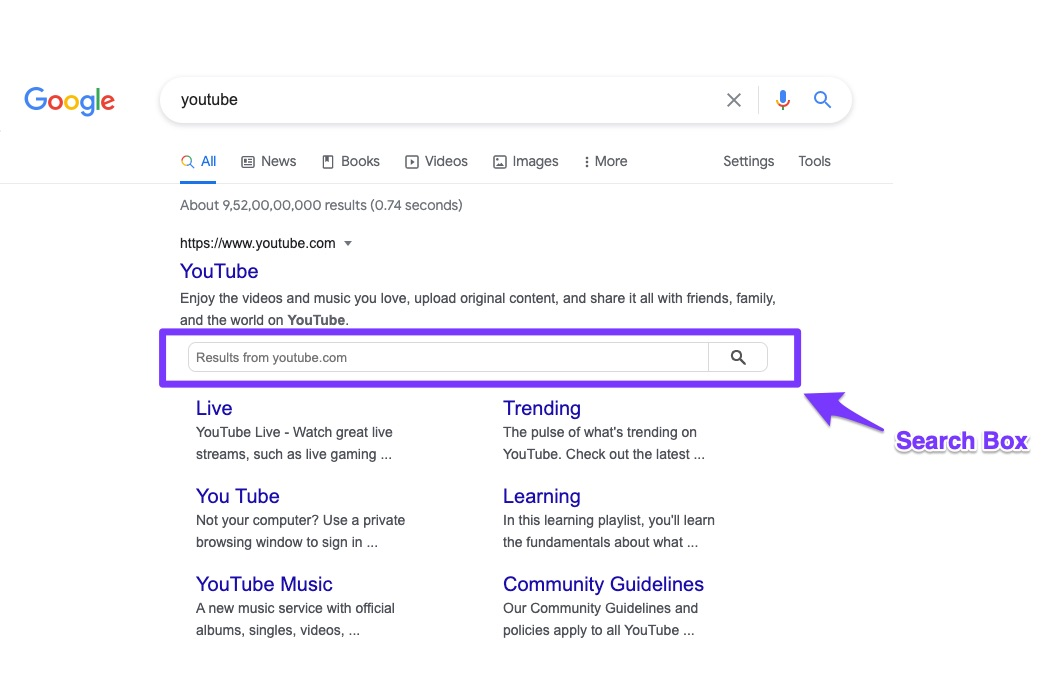search_box: (157, 75, 854, 122)
